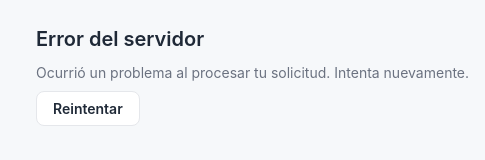
Test case: Reintento real con TanStack Query (FE-T1212.D) › reintenta de verdad vía refetch() y muestra los datos tras el segundo intento exitoso
The width and height of the screenshot is (485, 160).
Check: the message shows "Error del servidor", box [36,27,204,51]
Click the button "Reintentar".
click(88, 108)  # box [36,91,140,126]
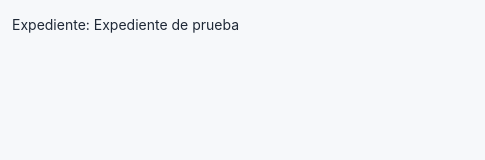
Check: the text "Expediente: Expediente de prueba" is shown, box [12,16,239,33]
